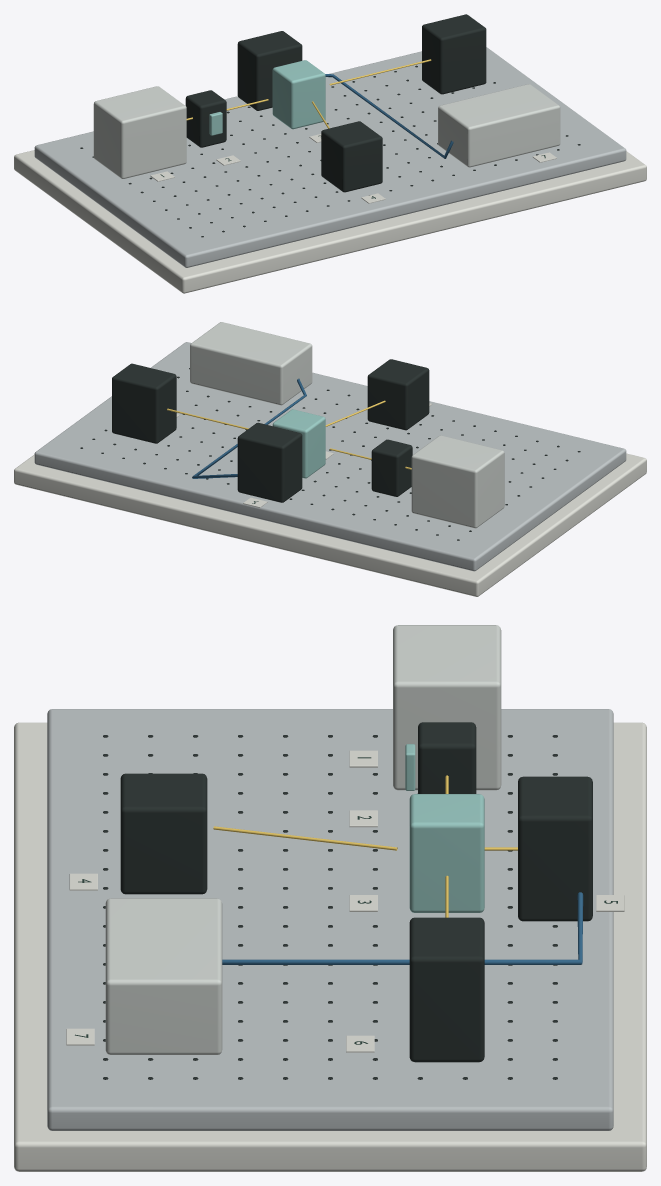
File: quantum-teleportation.glb
3 renders of one model, top to bottom at view 1: azimuth 30°, elevation 25°; view 2: azimuth 150°, elevation 25°; view 3: azimuth 270°, elevation 25°, orthographic. The views are drawn at different scales.
Parts seen in each view (by area): view 1: assumed optical tabletop, assumed 600 by 380 mm apparatus base, classical electronics placeholder, entangled-resource source housing, bob-receiver, input preparation mount, alice-detector, Alice Bell analysis placeholder, crystal mount placeholder, classical channel visual cable; view 2: assumed optical tabletop, assumed 600 by 380 mm apparatus base, classical electronics placeholder, entangled-resource source housing, alice-detector, bob-receiver, input preparation mount, crystal mount placeholder, Alice Bell analysis placeholder, classical channel visual cable; view 3: assumed optical tabletop, assumed 600 by 380 mm apparatus base, classical electronics placeholder, entangled-resource source housing, bob-receiver, alice-detector, input preparation mount, Alice Bell analysis placeholder, crystal mount placeholder, classical channel visual cable.
Part boxes in pixels (x1=…): assumed optical tabletop: x1=34, y1=47, x2=626, y2=267; assumed 600 by 380 mm apparatus base: x1=14, y1=150, x2=646, y2=293; classical electronics placeholder: x1=438, y1=84, x2=560, y2=167; entangled-resource source housing: x1=93, y1=86, x2=186, y2=178; bob-receiver: x1=422, y1=14, x2=486, y2=94; input preparation mount: x1=321, y1=121, x2=382, y2=192; alice-detector: x1=237, y1=31, x2=302, y2=110; Alice Bell analysis placeholder: x1=272, y1=60, x2=325, y2=129; crystal mount placeholder: x1=185, y1=90, x2=226, y2=147; classical channel visual cable: x1=325, y1=74, x2=453, y2=158; assumed optical tabletop: x1=34, y1=342, x2=626, y2=571; assumed 600 by 380 mm apparatus base: x1=14, y1=453, x2=646, y2=596; classical electronics placeholder: x1=190, y1=322, x2=312, y2=405; entangled-resource source housing: x1=411, y1=435, x2=504, y2=528; alice-detector: x1=237, y1=422, x2=302, y2=502; bob-receiver: x1=112, y1=363, x2=176, y2=443; input preparation mount: x1=367, y1=359, x2=429, y2=430; crystal mount placeholder: x1=371, y1=439, x2=412, y2=496; Alice Bell analysis placeholder: x1=272, y1=409, x2=325, y2=478; classical channel visual cable: x1=192, y1=378, x2=306, y2=478; assumed optical tabletop: x1=47, y1=709, x2=613, y2=1130; assumed 600 by 380 mm apparatus base: x1=14, y1=722, x2=646, y2=1171; classical electronics placeholder: x1=105, y1=898, x2=222, y2=1054; entangled-resource source housing: x1=393, y1=625, x2=501, y2=790; bob-receiver: x1=409, y1=917, x2=484, y2=1062; alice-detector: x1=518, y1=776, x2=592, y2=921; input preparation mount: x1=120, y1=773, x2=207, y2=894; Alice Bell analysis placeholder: x1=409, y1=794, x2=484, y2=912; crystal mount placeholder: x1=418, y1=722, x2=476, y2=793; classical channel visual cable: x1=222, y1=892, x2=583, y2=964.
Size of the model in its own units: 0.6 by 0.11 by 0.38.
